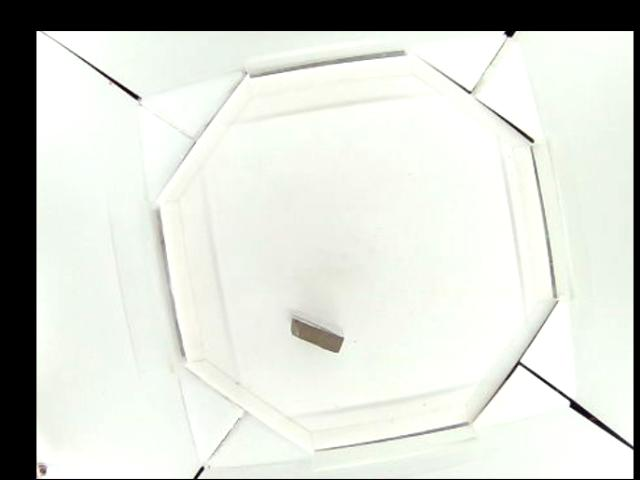China: (287, 315, 345, 355)
